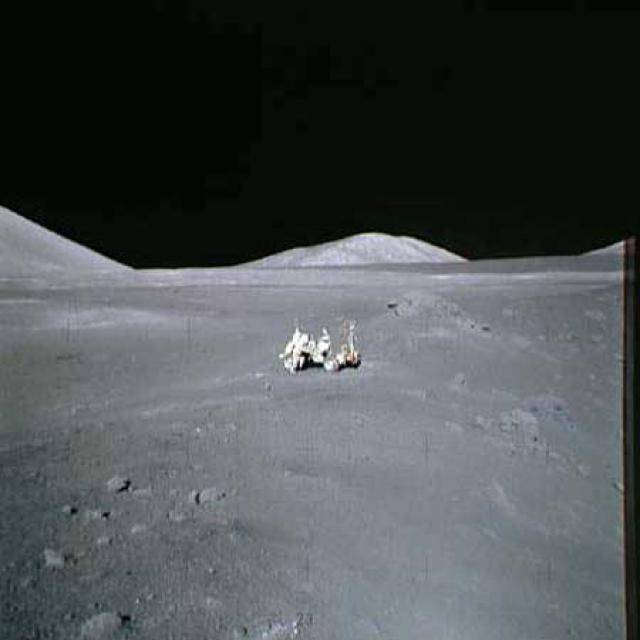artifact: (278, 309, 371, 380)
rock: (372, 284, 489, 338), (70, 600, 126, 639), (520, 392, 580, 423), (488, 409, 541, 444), (179, 480, 230, 515), (38, 540, 74, 576), (104, 464, 133, 495), (444, 368, 471, 392)
